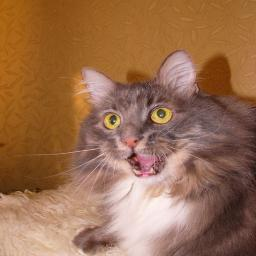catnose: (120, 136, 145, 150)
